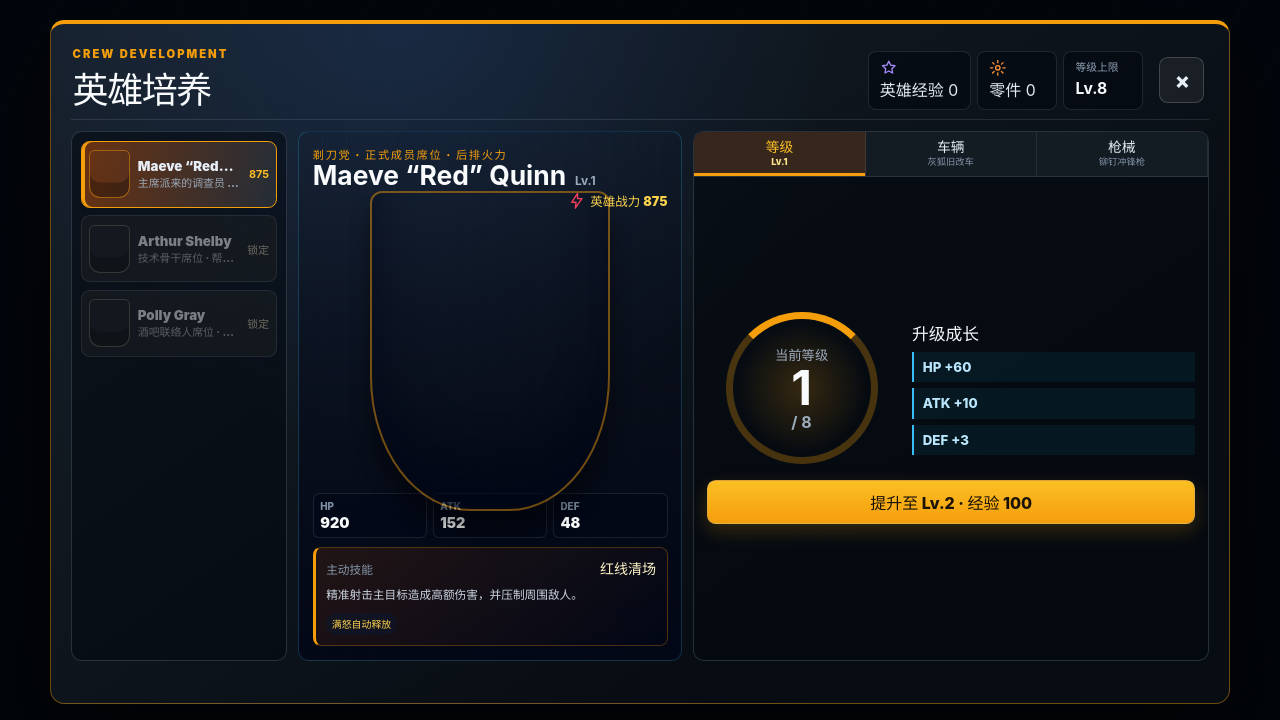
Test: HeroesPanel › shows current loadout first and changes cars in a separate garage screen
expect the button with aria-label "枪械 · 铆钉冲锋枪" is shown: met, box [1037,132,1208,176]
Click the button with aria-label "车辆 · 灰狐旧改车" at (951, 154), box [866,132,1037,176]
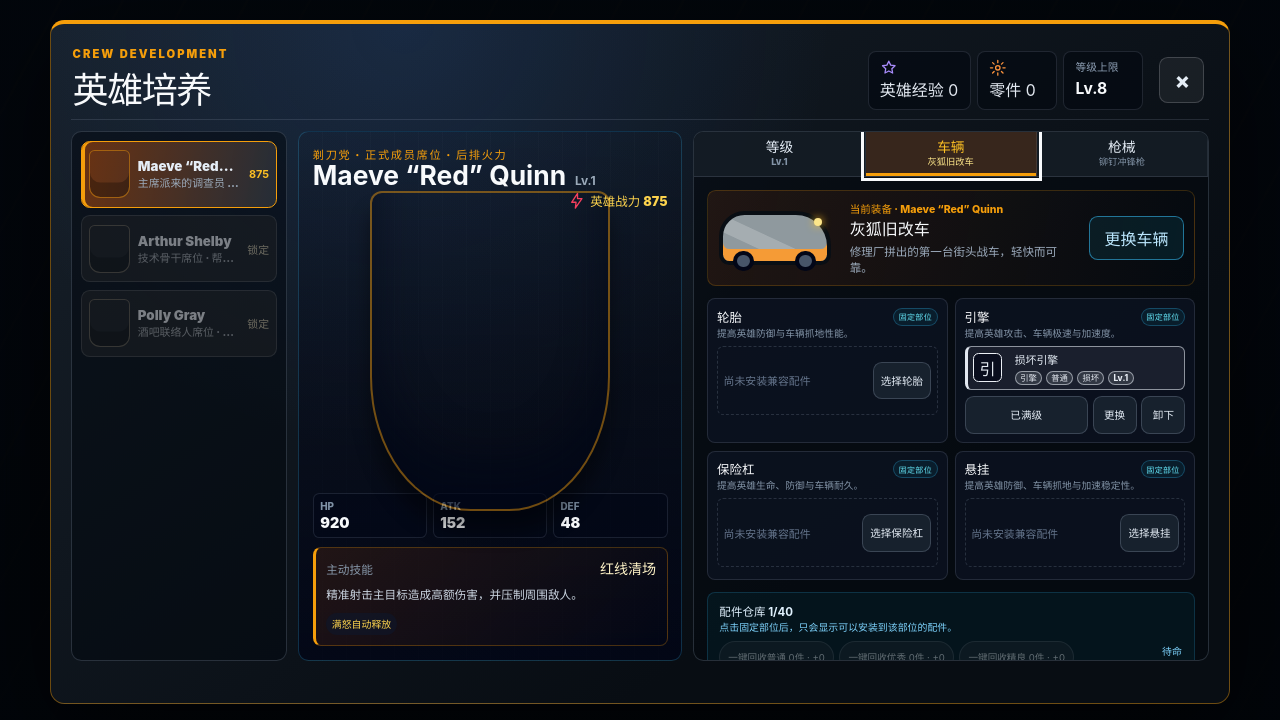
expect the text "当前装备 · Maeve “Red” Quinn" is shown: met, box [850,203,1003,216]
Click the button "更换车辆" at (1136, 238), box [1089,216,1184,260]
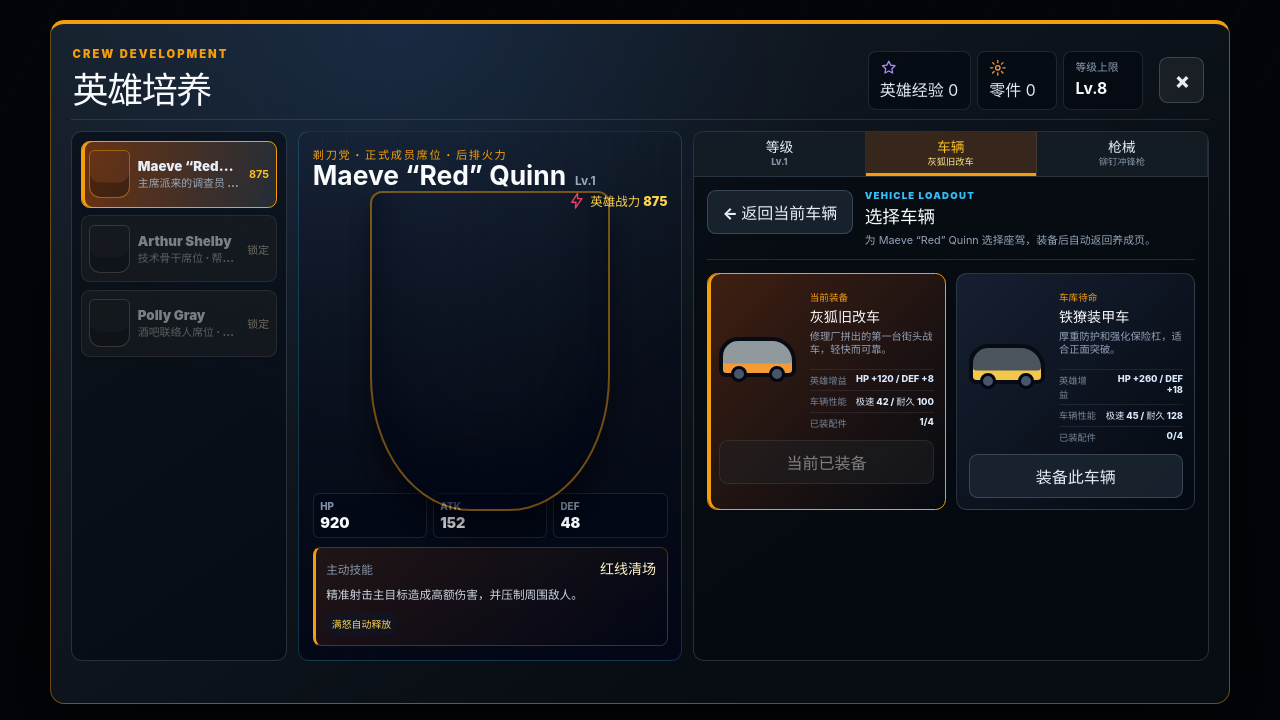
expect the heading "选择车辆" is shown: met, box [865,206,935,227]
expect the button "当前已装备" is disabled: met, box [719,440,934,484]
expect the element "铁獠装甲车" is shown: met, box [956,273,1195,510]
Click the button "装备此车辆" at (1076, 476), box [969,454,1183,498]
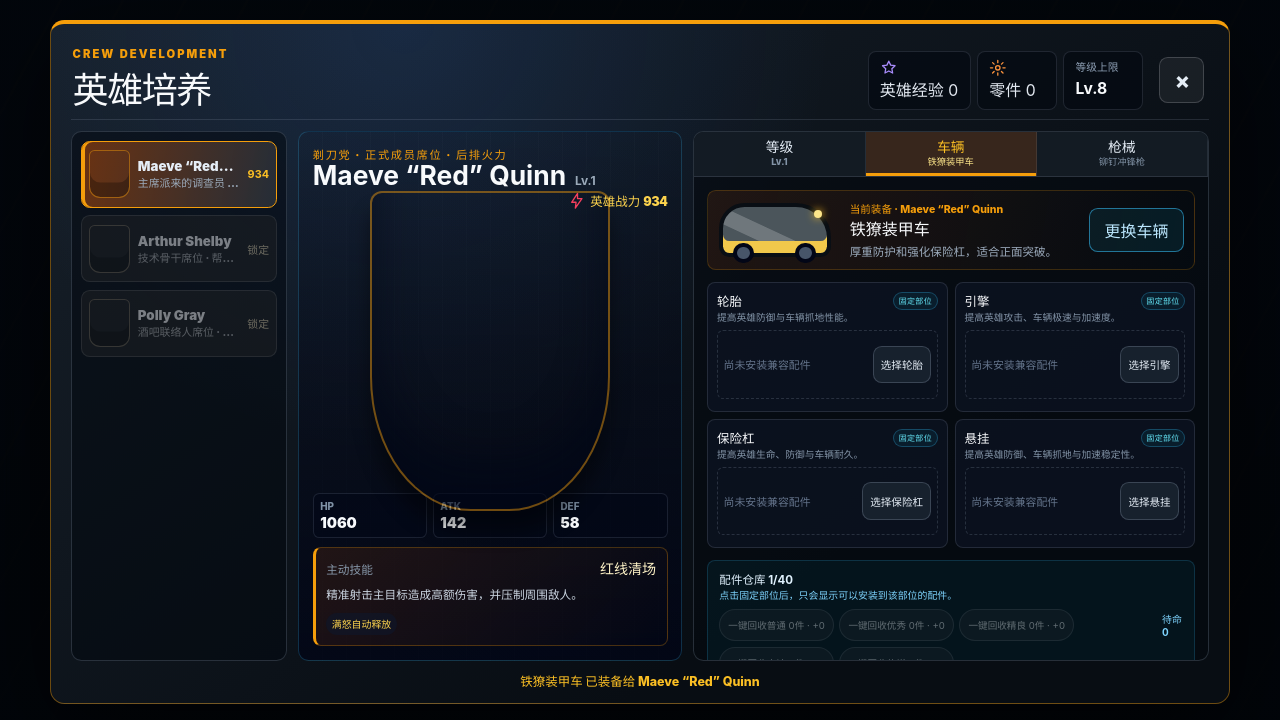
expect the button with aria-label "车辆 · 铁獠装甲车" is shown: met, box [866,132,1037,176]
expect the button "更换车辆" is shown: met, box [1089,208,1184,252]
